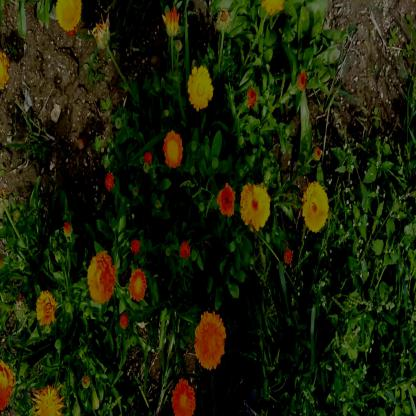marigold: (195, 313, 224, 368), (240, 182, 270, 233), (88, 253, 112, 306), (304, 183, 326, 231), (188, 68, 212, 110), (57, 0, 81, 33), (36, 290, 56, 329), (172, 380, 194, 413), (37, 388, 61, 416), (165, 129, 182, 165), (217, 185, 235, 218), (0, 359, 13, 404), (129, 271, 146, 304)
